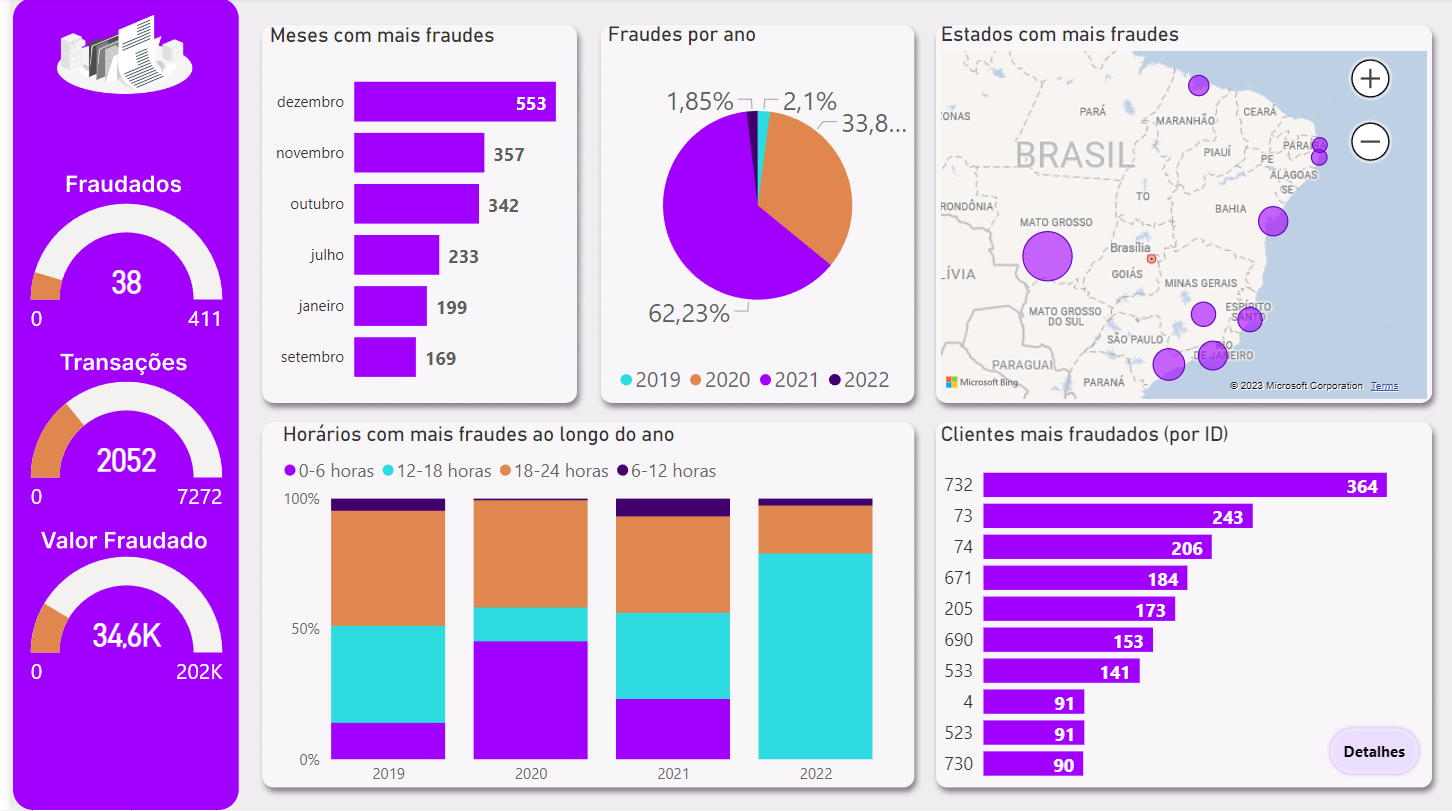

Layout of this report page (visuals, bound fields, positions):
{"tool":"powerbi","page":{"name":"dashboard","canvas":[1280,720],"ordinal":0},"visuals":[{"type":"hundredPercentStackedColumnChart","title":"Horários com mais fraudes ao longo do ano","fields":{"Category":["frauds_by_shift_and_year.ano"],"Y":["Sum(frauds_by_shift_and_year.quantidade_transacoes)"],"Series":["frauds_by_shift_and_year.horario_transacao"]},"box":[234.3,375.7,532.9,330],"z":0},{"type":"pieChart","title":"Fraudes por ano","fields":{"Y":["Count(fraudulent_transactions.id_transaction)"],"Category":["fraudulent_transactions.data_hora.Variation.Hierarquia de datas.Ano"]},"box":[522.2,21.1,275.6,338.9],"z":1000},{"type":"barChart","title":"Meses com mais fraudes","fields":{"Category":["fraudulent_transactions.data_hora.Variation.Hierarquia de datas.Mês"],"Y":["Count(fraudulent_transactions.id_transaction)"]},"box":[222.5,22.5,278.8,337.5],"z":2000},{"type":"map","title":"Estados com mais fraudes","fields":{"Category":["frauds_by_state.estado"],"Size":["Sum(frauds_by_state.quantidade_de_fraudes)"]},"box":[817.8,21.1,441.1,338.9],"z":3000},{"type":"barChart","title":"Clientes mais fraudados (por ID)","fields":{"Category":["defrauded_clients.string_cliente_id"],"Y":["CountNonNull(fraudulent_transactions.cliente_id)"]},"box":[817.8,375.6,441.1,330],"z":4000},{"type":"pageNavigator","box":[28.8,653.8,143.8,62.5],"z":5000},{"type":"gauge","title":"Clientes fraudadores","fields":{"Y":["Count(fraudulent_transactions.cliente_id)"],"MaxValue":["Count(clientes.id)"]},"box":[10.8,177.5,180,130],"z":6000},{"type":"gauge","title":"Transações fraudulentas","fields":{"Y":["Count(fraudulent_transactions.id_transaction)"],"MaxValue":["Count(all_transactions.id)"]},"box":[10.8,335,180,130],"z":7000},{"type":"gauge","title":"Valor fraudado","fields":{"Y":["Sum(fraudulent_transactions.valor)"],"MaxValue":["Sum(all_transactions.valor)"],"MinValue":["Min(fraudulent_transactions.valor)"]},"box":[10.8,490,180,130],"z":8000},{"type":"shape","box":[1164.4,643.3,85.6,47.8],"z":9000}]}

Visuals, with their boxes in screenshot pixels (x1, y1, x2, y2), scaled from the page's 1280x720 canvas onto the 1452x811 screenshot:
"Horários com mais fraudes ao longo do ano" hundredPercentStackedColumnChart: Rect(266, 423, 870, 795)
"Fraudes por ano" pieChart: Rect(592, 24, 905, 406)
"Meses com mais fraudes" barChart: Rect(252, 25, 569, 406)
"Estados com mais fraudes" map: Rect(928, 24, 1428, 406)
"Clientes mais fraudados (por ID)" barChart: Rect(928, 423, 1428, 795)
pageNavigator: Rect(33, 736, 196, 807)
"Clientes fraudadores" gauge: Rect(12, 200, 216, 346)
"Transações fraudulentas" gauge: Rect(12, 377, 216, 524)
"Valor fraudado" gauge: Rect(12, 552, 216, 698)
shape: Rect(1321, 725, 1418, 778)
